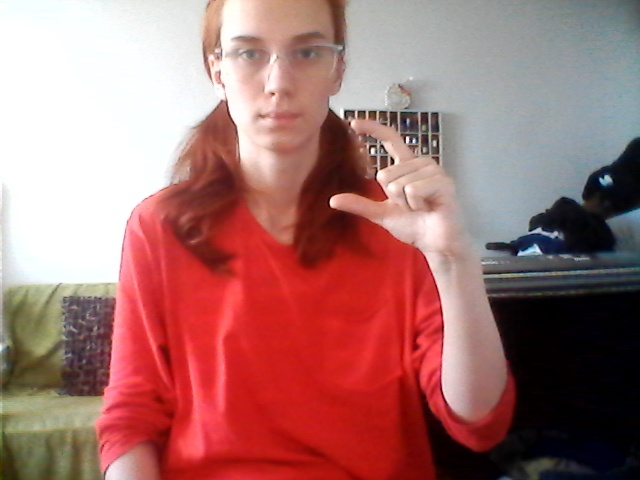c: (329, 113, 476, 260)
